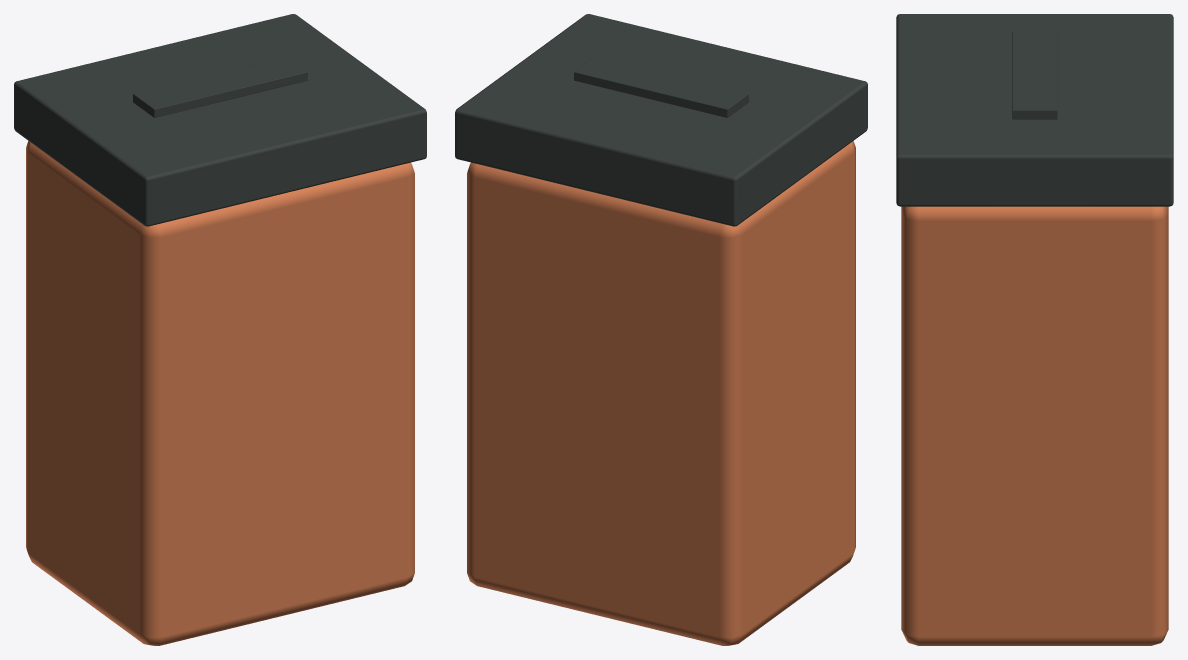
Rendered from field-medicine-and-recovery-sharps-container-23d9366d__3071.glb.
The picture shows the model from 3 angles, left to right: view 1: azimuth 30°, elevation 25°; view 2: azimuth 150°, elevation 25°; view 3: azimuth 270°, elevation 25°; orthographic projection. The views are drawn at different scales.
Visible parts, largest first — view 1: sharps-container; view 2: sharps-container; view 3: sharps-container.
Part boxes in pixels (x1,y1,x2,y2): sharps-container: [14, 14, 426, 645]; sharps-container: [455, 14, 867, 645]; sharps-container: [896, 14, 1173, 645].
Size of the model in its own units: 0.165 by 0.275 by 0.135.
